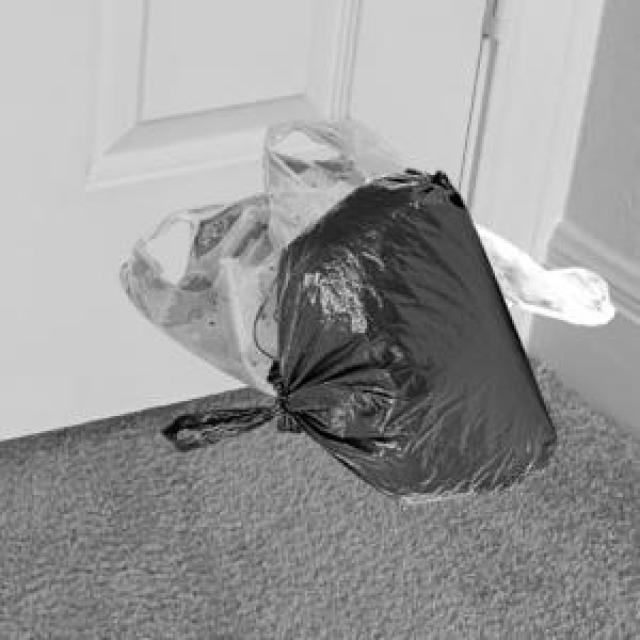miscellaneous trash: (158, 166, 553, 499)
